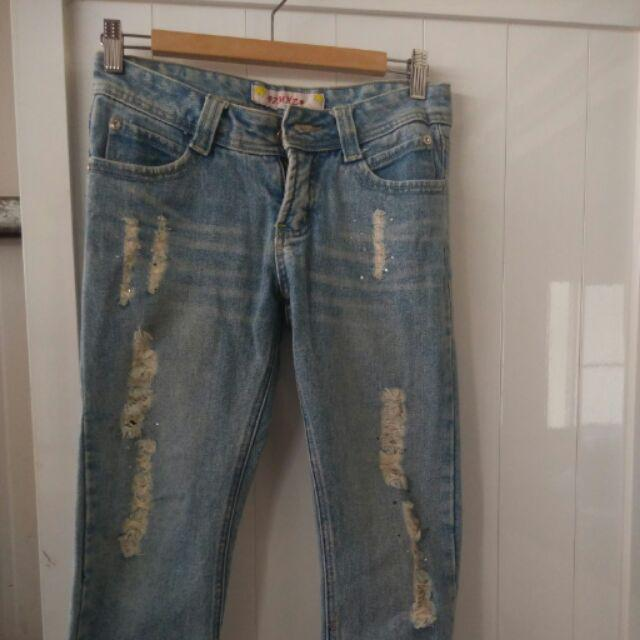Pants_Leggings: (67, 46, 466, 640)
